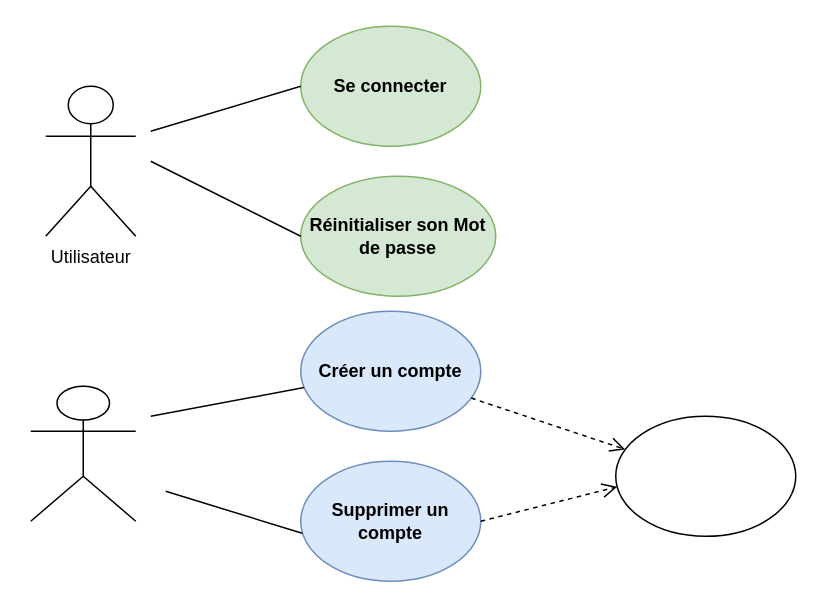
The diagram is 822 pixels wide and 608 high, and some of its shapes have lost their labels. Here are the shapes that lost their labels. From the top down, the centre of each, then its label:
At (x=82, y=453): "Administrateur".
At (x=705, y=475): "Authentification".
